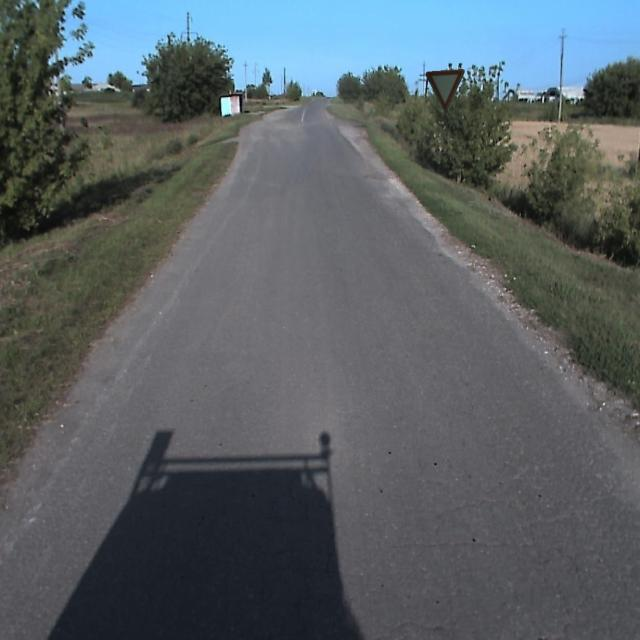road: (0, 98, 639, 639)
